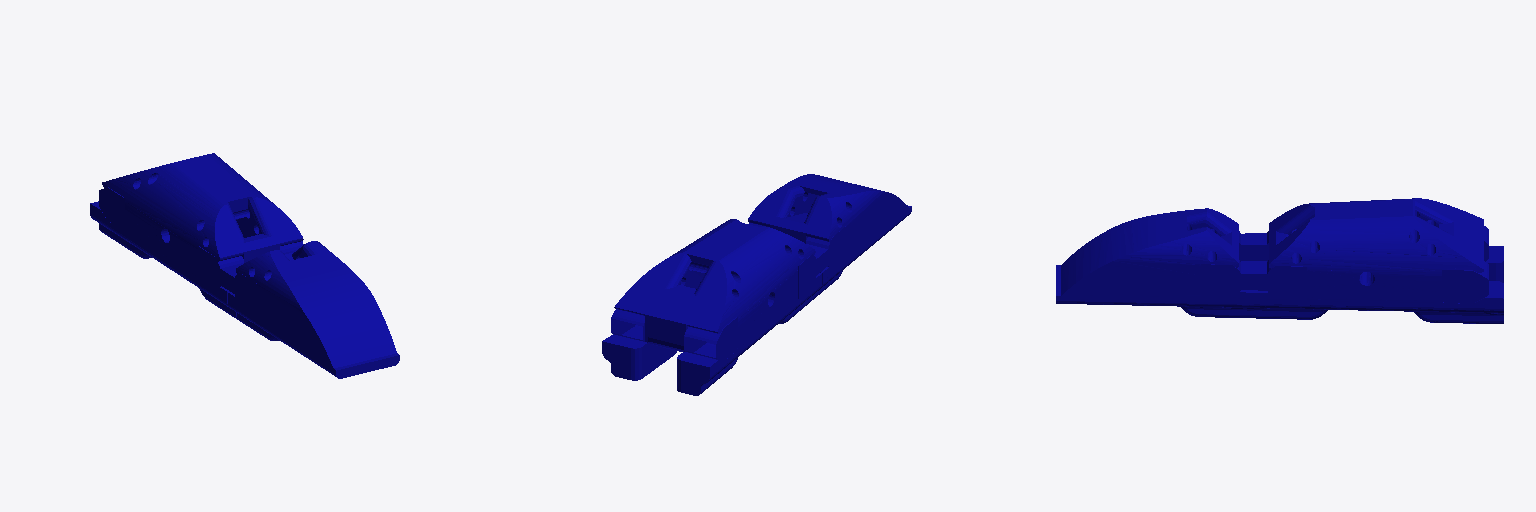
Rendered from fingerTip.obj.
3 renders of one model, left to right at view 1: azimuth 30°, elevation 25°; view 2: azimuth 150°, elevation 25°; view 3: azimuth 270°, elevation 25°, orthographic.
Parts seen in each view (by area): view 1: FingerAssem3.003_FingerAssem3.006; view 2: FingerAssem3.003_FingerAssem3.006; view 3: FingerAssem3.003_FingerAssem3.006.
Part boxes in pixels (x1,y1,x2,y2): FingerAssem3.003_FingerAssem3.006: (90,153,399,378); FingerAssem3.003_FingerAssem3.006: (602,174,911,395); FingerAssem3.003_FingerAssem3.006: (1056,198,1503,323).
Bounding box in the file's own units: 0.0238 × 0.0205 × 0.0859.